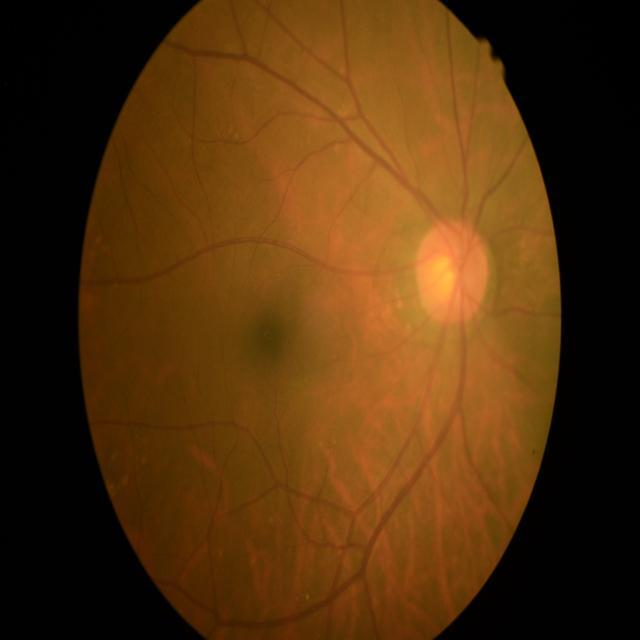cup: (432, 250, 468, 306)
disk: (414, 218, 490, 324)
